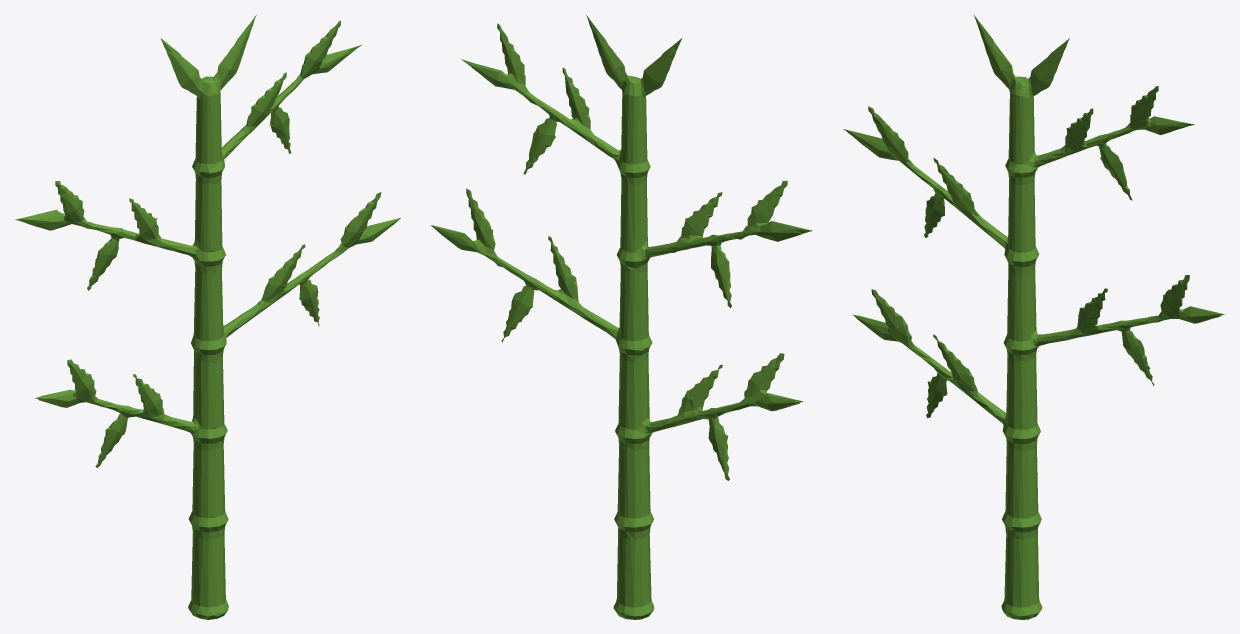
The model's file is NEW_RECOVERY_042_LOD0.fbx.
3 views of the same model, side by side, from view 1: azimuth 30°, elevation 25°; view 2: azimuth 150°, elevation 25°; view 3: azimuth 330°, elevation 25° (orthographic).
Parts seen in each view (by area): view 1: Bamboo_whole_connected_solid; view 2: Bamboo_whole_connected_solid; view 3: Bamboo_whole_connected_solid.
Boxes of the visible parts, x1,y1,x2,y2 form: Bamboo_whole_connected_solid: [15, 15, 400, 619]; Bamboo_whole_connected_solid: [431, 15, 812, 619]; Bamboo_whole_connected_solid: [843, 14, 1224, 619].
Size of the model in its own units: 329 by 35.71 by 479.
